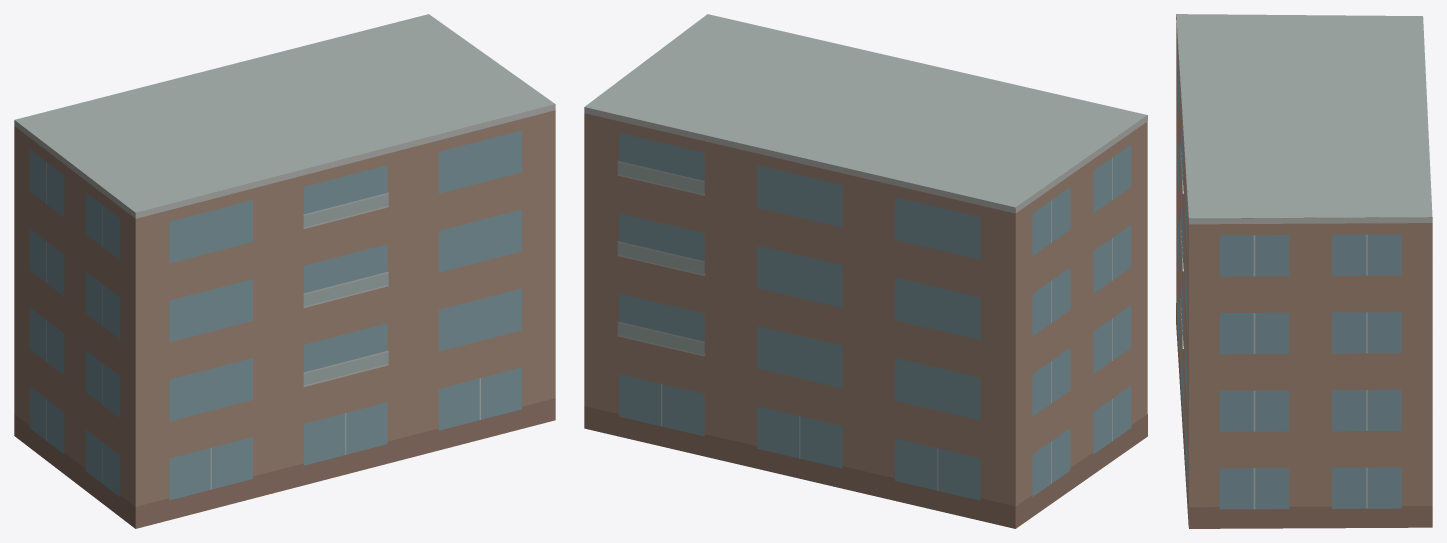
The model's file is survey-upis-32631865.glb.
3 renders of one model, left to right at view 1: azimuth 30°, elevation 25°; view 2: azimuth 150°, elevation 25°; view 3: azimuth 270°, elevation 25°, orthographic. The views are drawn at different scales.
Visible parts, largest first — view 1: survey-upis-32631865.tmp; view 2: survey-upis-32631865.tmp; view 3: survey-upis-32631865.tmp.
Part boxes in pixels (left/top/right/bottom): survey-upis-32631865.tmp: left=14, top=14, right=555, bottom=528; survey-upis-32631865.tmp: left=584, top=14, right=1147, bottom=528; survey-upis-32631865.tmp: left=1176, top=14, right=1432, bottom=528.
Size of the model in its own units: 18.08 by 12.8 by 9.59.
